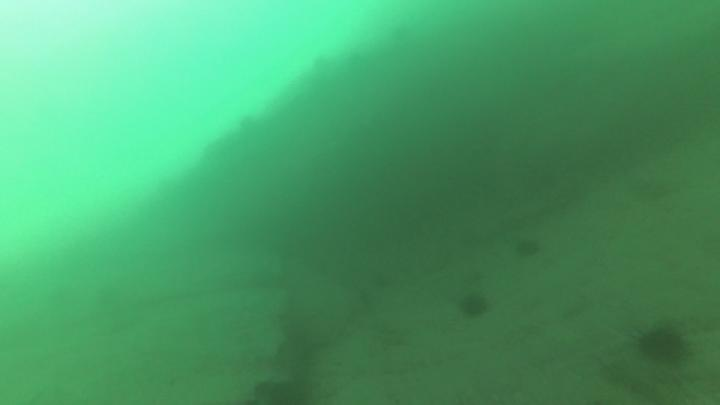echinus: (639, 326, 690, 365), (461, 292, 487, 317), (517, 239, 540, 260)
